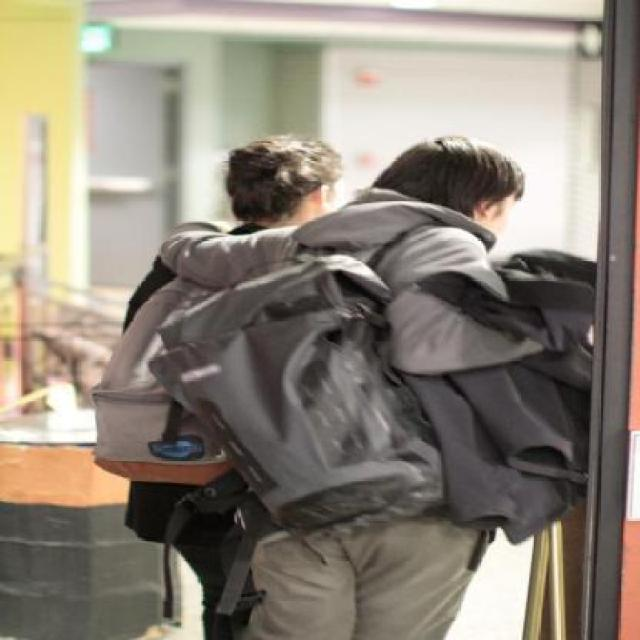backpack: (149, 244, 449, 534), (86, 255, 246, 500)
